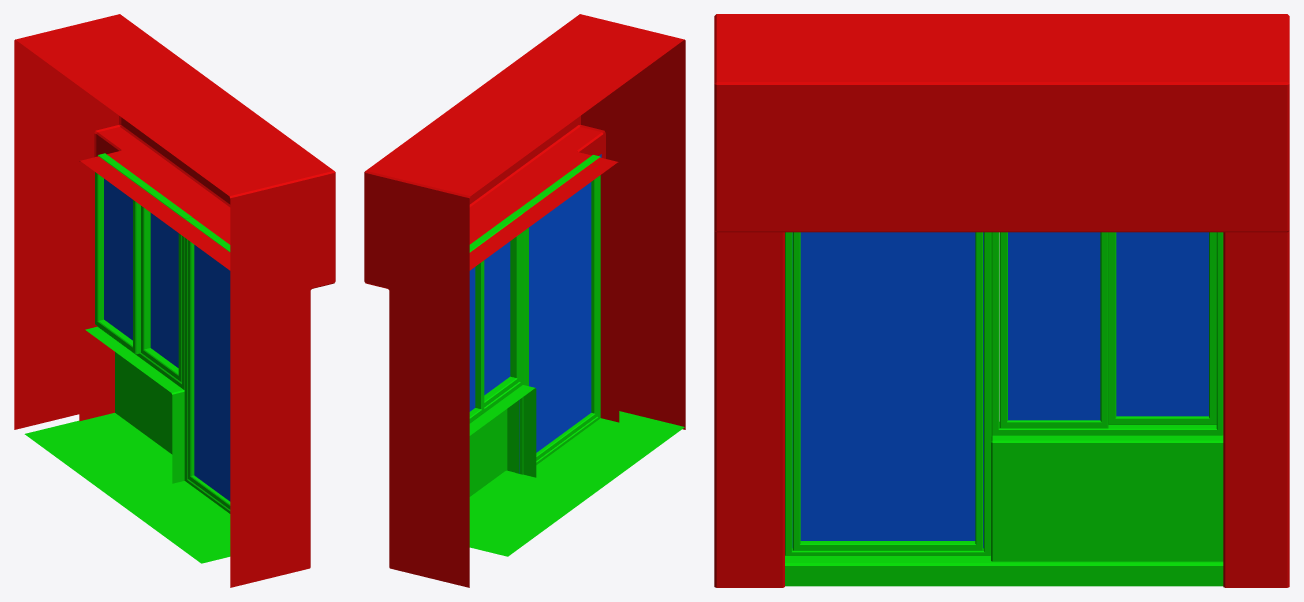
The model's file is shop_D.fbx.
The picture shows the model from 3 angles, left to right: view 1: azimuth 30°, elevation 25°; view 2: azimuth 150°, elevation 25°; view 3: azimuth 270°, elevation 25°; orthographic projection. The views are drawn at different scales.
Visible parts, largest first — view 1: polySurface203; view 2: polySurface203; view 3: polySurface203.
Part boxes in pixels (x1,y1,x2,y2): polySurface203: (14, 14, 335, 587); polySurface203: (364, 14, 685, 587); polySurface203: (714, 14, 1289, 587).
Size of the model in its own units: 96.57 by 300 by 300.
